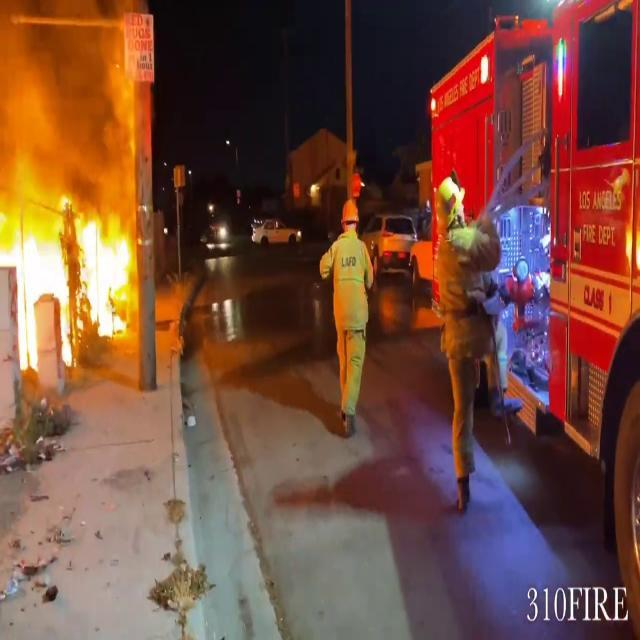Fire: (0, 167, 138, 366)
Smoke: (0, 1, 136, 196)
